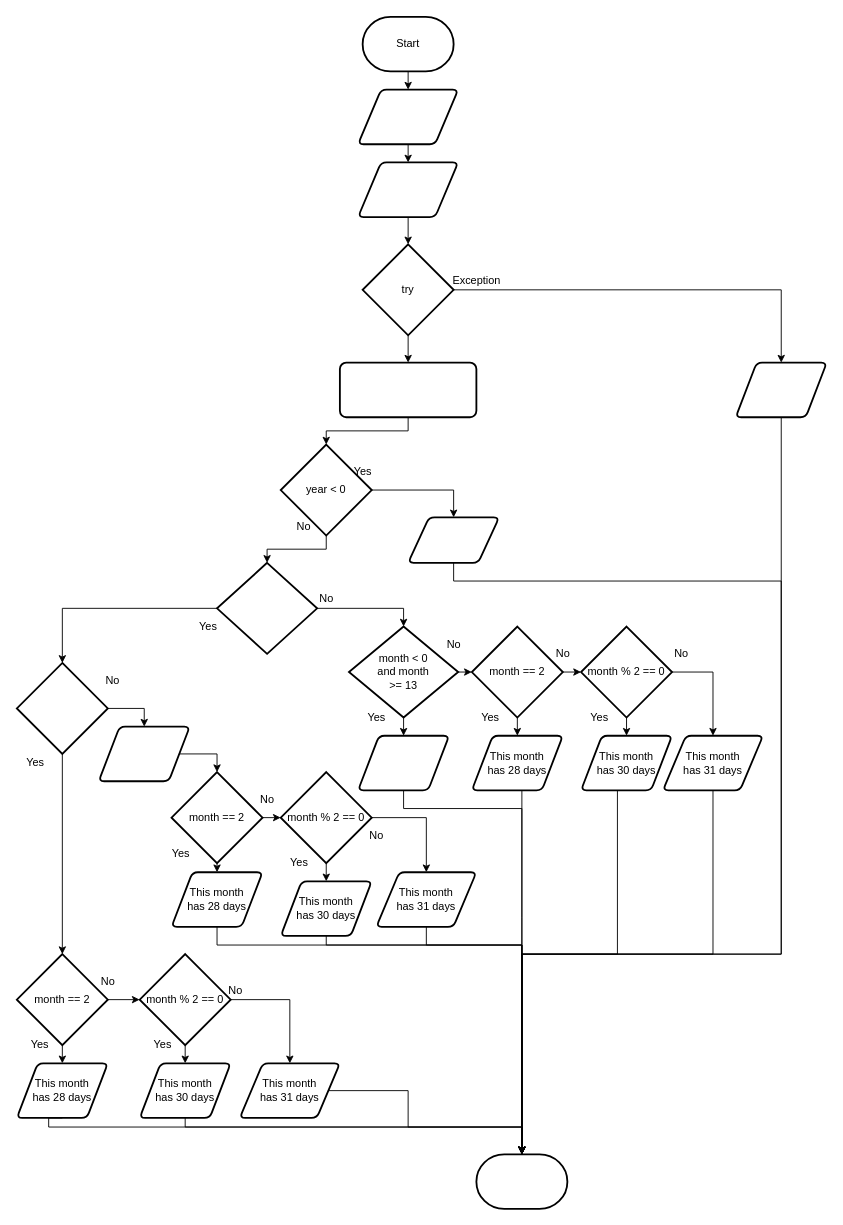
Some shapes in this 843 by 1225 pixel diagram are drawn without their labels. Each missing label, with the centre of its shape:
Ask for month: the point at 408,116
Ask for year: the point at 408,189
convert string to int: the point at 408,389
Invalid month: the point at 403,762
print "Invalid integer": the point at 780,389
show Invalid Year: the point at 453,539
Stop: the point at 521,1181
This is a leap year: the point at 143,753
year % 100 == 0 and year % 400 != 0: the point at 61,708
year % 4 == 0 or year % 400 == 0: the point at 267,607
